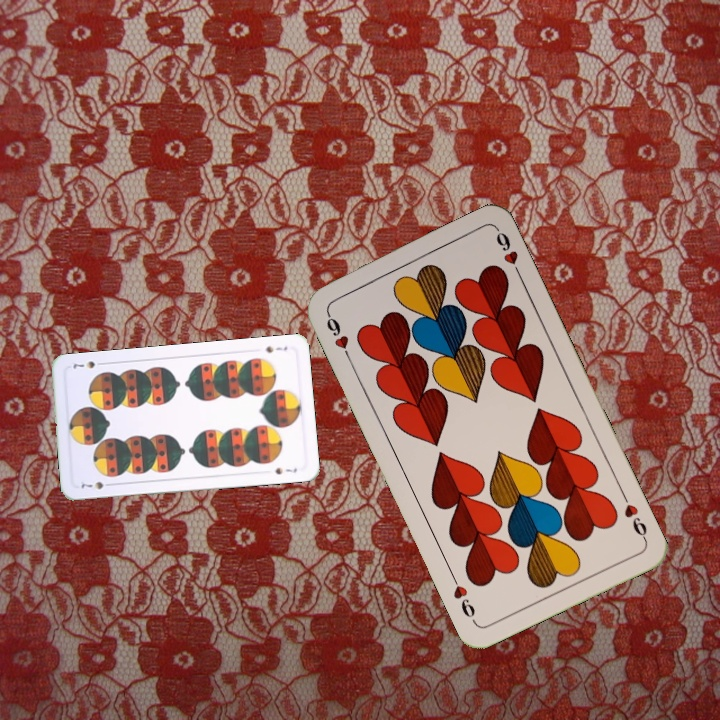H9: (617, 488, 650, 544), (322, 307, 354, 363)
S7: (77, 477, 116, 492), (261, 342, 290, 356)
